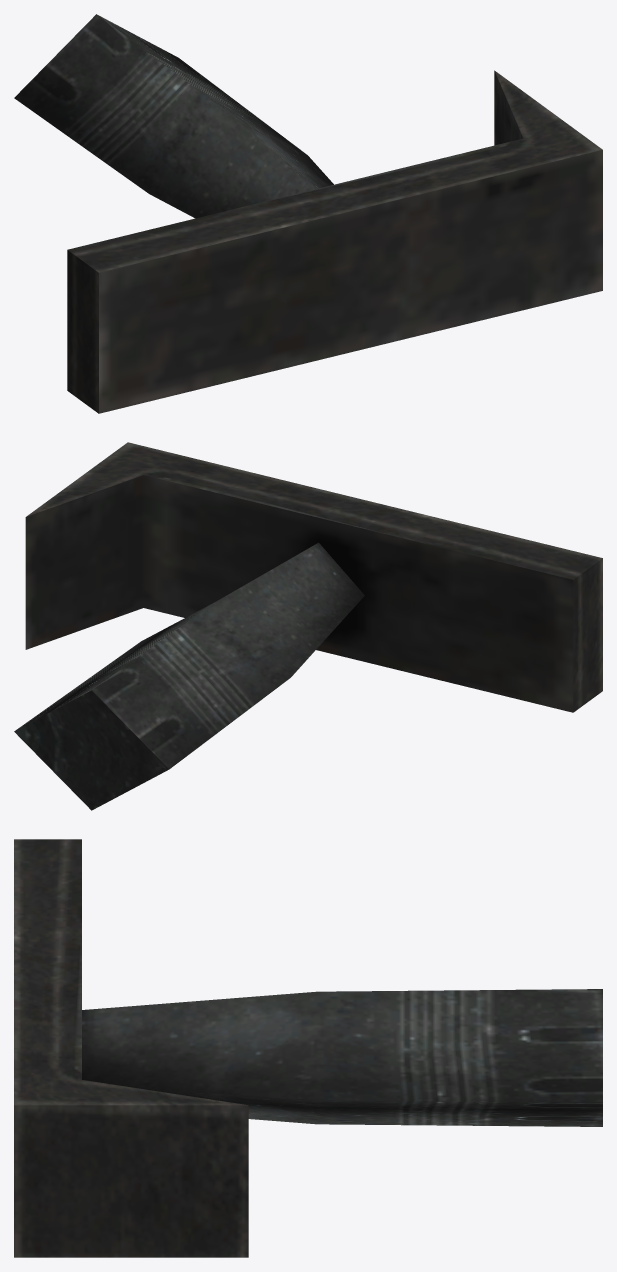
The model's file is t6_attach_grip_vector_world_LOD1.obj.
3 views of the same model, one above another, from view 1: azimuth 30°, elevation 25°; view 2: azimuth 150°, elevation 25°; view 3: azimuth 270°, elevation 25° (orthographic). The views are drawn at different scales.
Parts seen in each view (by area): view 1: mtl_t6_attach_grip_vector; view 2: mtl_t6_attach_grip_vector; view 3: mtl_t6_attach_grip_vector.
Part boxes in pixels (left/top/right/bottom): mtl_t6_attach_grip_vector: left=14, top=14, right=602, bottom=413; mtl_t6_attach_grip_vector: left=14, top=442, right=602, bottom=810; mtl_t6_attach_grip_vector: left=14, top=839, right=602, bottom=1257.
Size of the model in its own units: 9.59 by 2.56 by 8.98.
